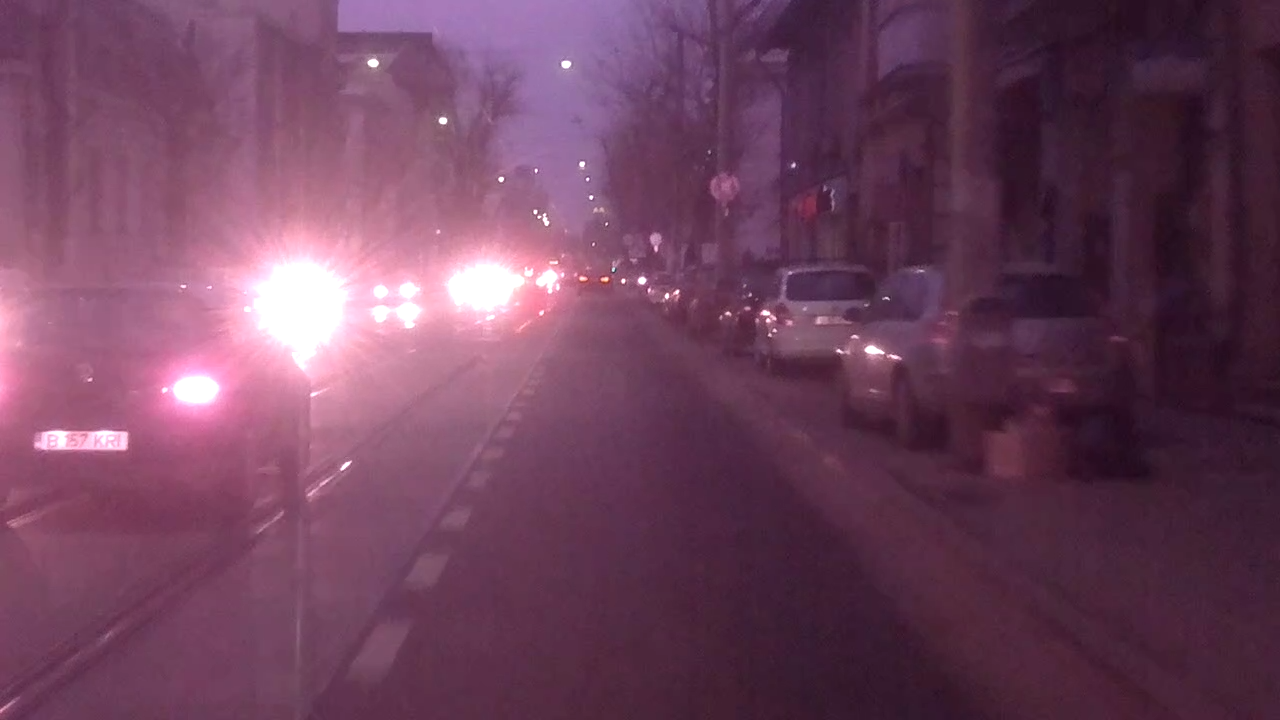license-plate: (30, 427, 131, 454)
